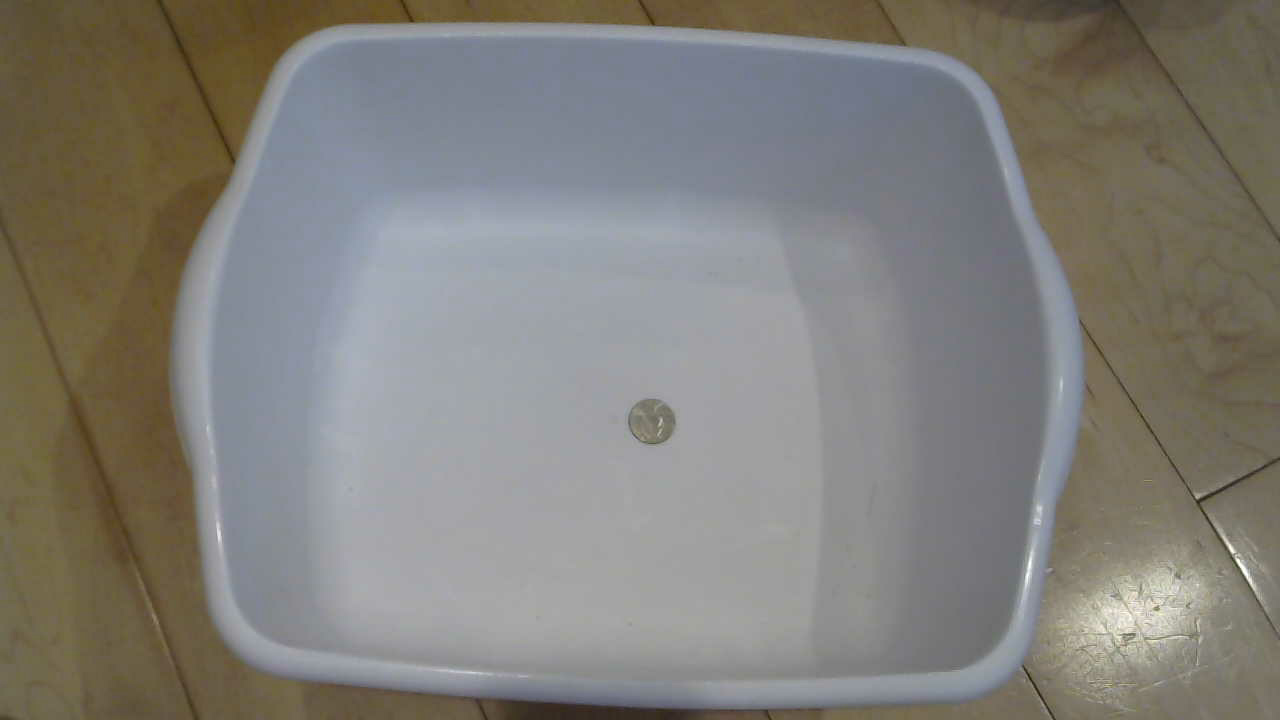coin: (625, 399, 689, 458)
